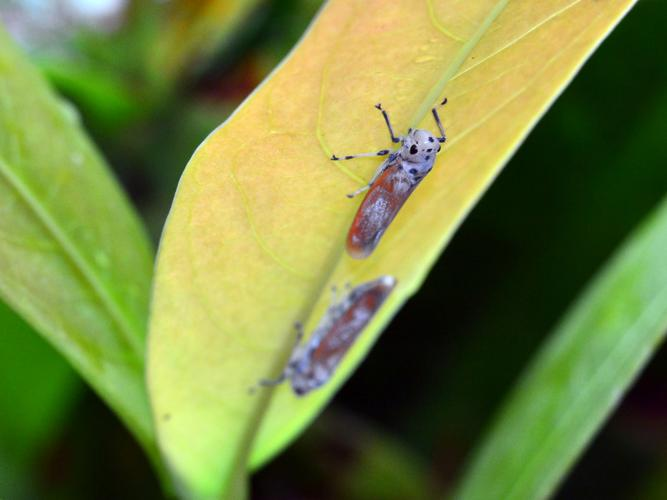Cicadellidae: (332, 106, 445, 261), (286, 277, 395, 397)
